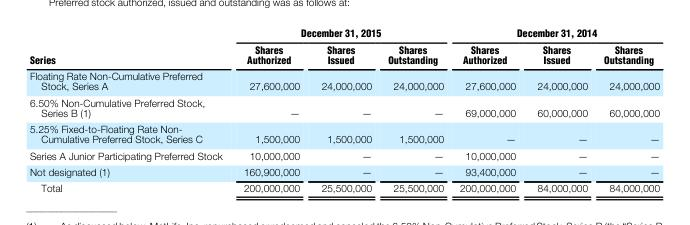table: (28, 28, 659, 194)
table column: (28, 28, 232, 194), (232, 28, 309, 194), (451, 28, 525, 194), (379, 28, 451, 194), (309, 28, 379, 194), (525, 28, 595, 194), (595, 28, 659, 194)
table column header: (28, 28, 659, 68)
table row: (28, 68, 659, 95), (28, 121, 659, 148), (28, 42, 659, 68), (28, 95, 659, 121), (28, 164, 659, 181), (28, 148, 659, 164), (28, 28, 659, 42), (28, 181, 659, 194)
table spanning cell: (28, 28, 232, 68), (232, 28, 451, 42), (451, 28, 659, 42)
